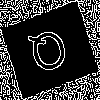Q: (25, 24, 74, 83)
